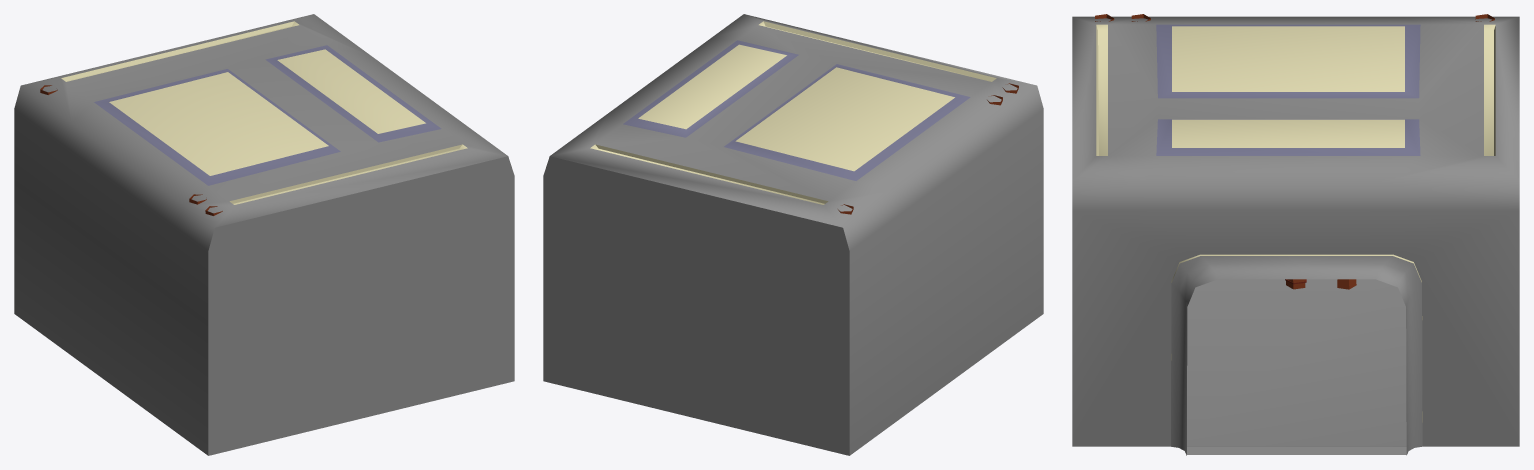
The model's file is PipesRoom.fbx.
3 views of the same model, side by side, from view 1: azimuth 30°, elevation 25°; view 2: azimuth 150°, elevation 25°; view 3: azimuth 270°, elevation 25° (orthographic). The views are drawn at different scales.
Visible parts, largest first — view 1: PipesRoom; view 2: PipesRoom; view 3: PipesRoom.
Part boxes in pixels (left/top/right/bottom): PipesRoom: left=14, top=14, right=514, bottom=455; PipesRoom: left=543, top=14, right=1043, bottom=455; PipesRoom: left=1072, top=14, right=1519, bottom=455.
Size of the model in its own units: 434 by 304 by 449.
